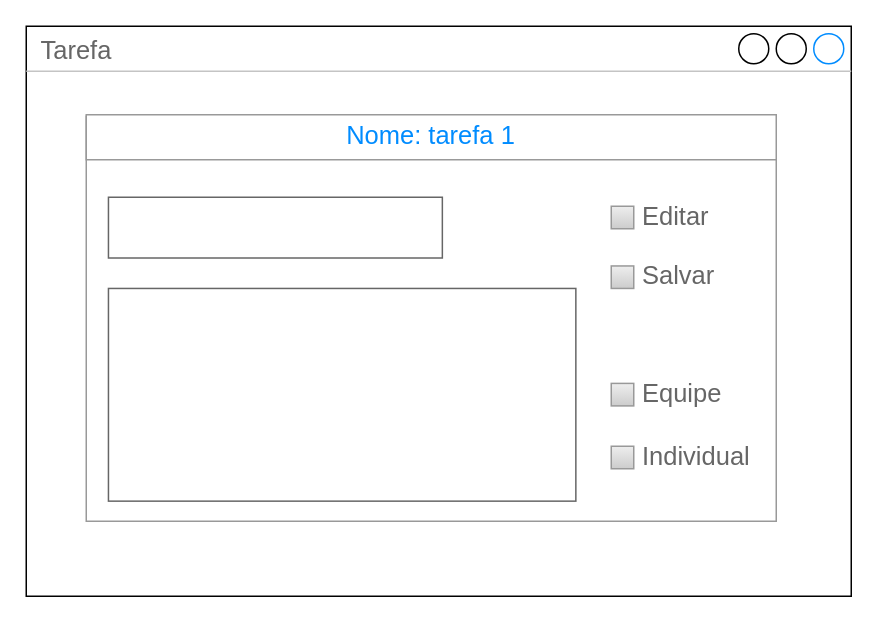
The diagram is 878 pixels wide and 623 high, and some of its shapes have lost their labels. The shapes that lost their labels are listed below. From the top down, each one's centre as x and y in pixels, then its label:
At (274,227): "Status: para fazer".
At (341,394): "Descrição".
